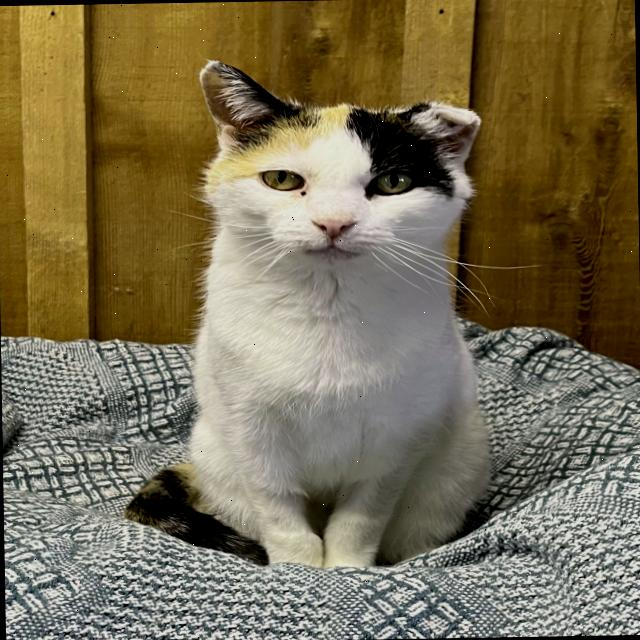calico_cat: (183, 51, 492, 300)
